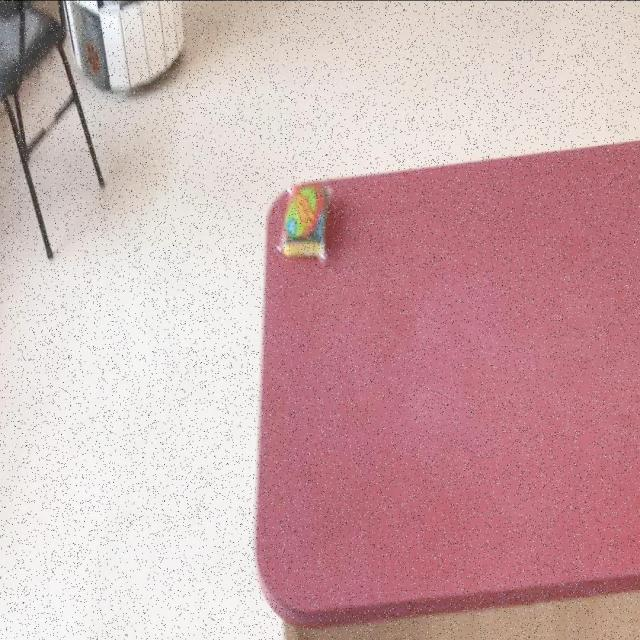Sponge: (252, 135, 640, 630), (60, 0, 185, 94), (275, 183, 331, 263)
